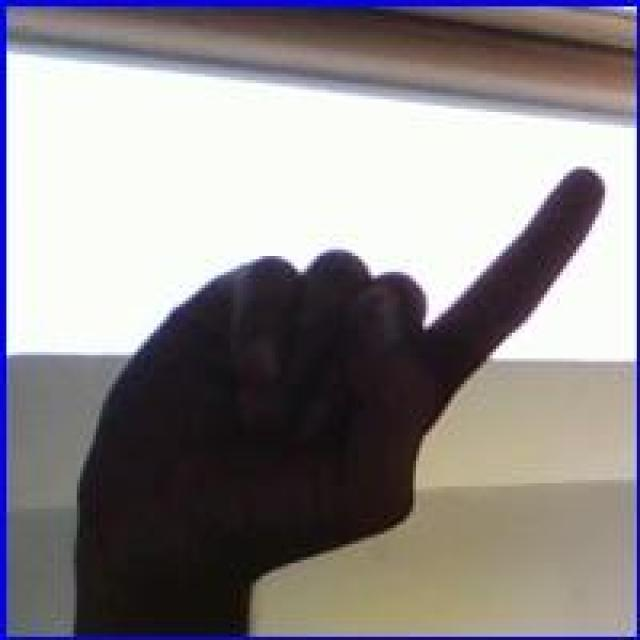Z: (83, 160, 605, 566)
